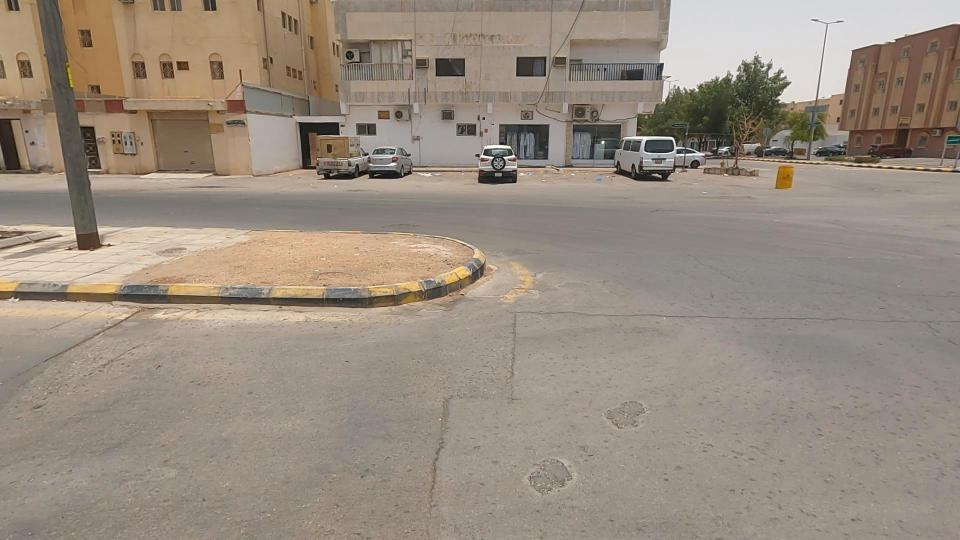CLUTTER_SIDEWALK: (125, 184, 517, 323)
GARBAGE: (388, 148, 468, 200), (574, 150, 626, 202)
